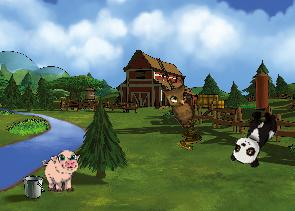owl: (157, 77, 208, 131)
panda: (227, 104, 282, 171)
pig: (42, 150, 81, 193)
